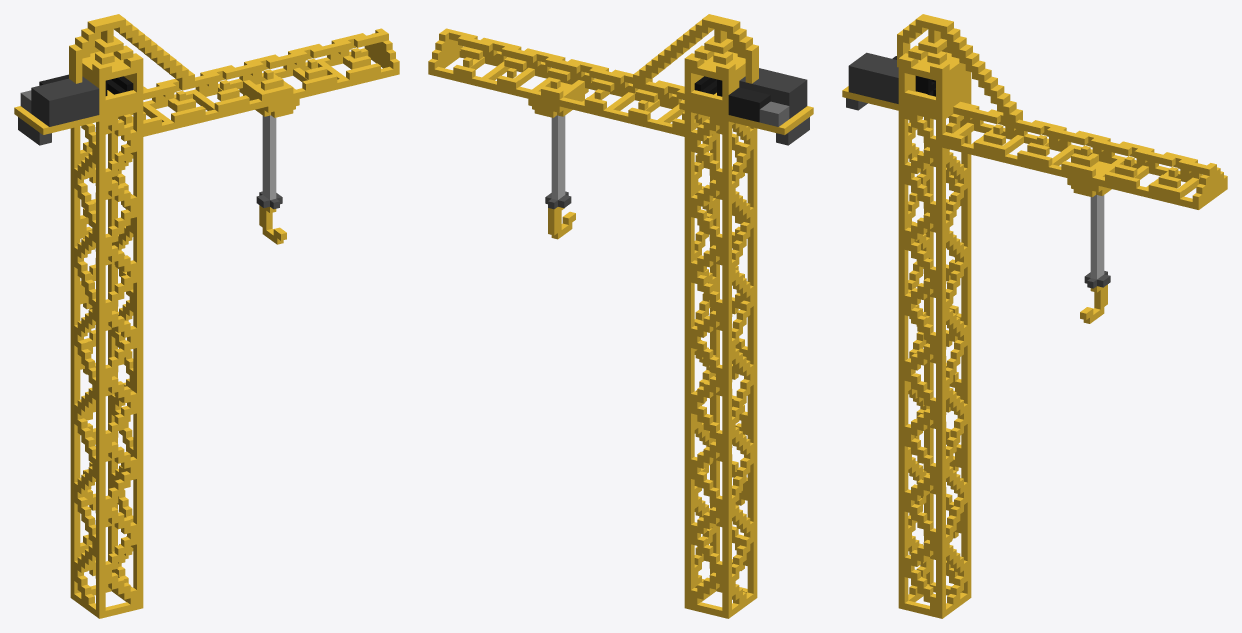
File: Crane.obj
3 renders of one model, left to right at view 1: azimuth 30°, elevation 25°; view 2: azimuth 150°, elevation 25°; view 3: azimuth 330°, elevation 25°, orthographic.
Visible parts, largest first — view 1: Crane; view 2: Crane; view 3: Crane.
Part boxes in pixels (x1=…): Crane: x1=14, y1=14, x2=399, y2=618; Crane: x1=428, y1=14, x2=813, y2=618; Crane: x1=842, y1=14, x2=1227, y2=618.
Size of the model in its own units: 57 by 89 by 8.
